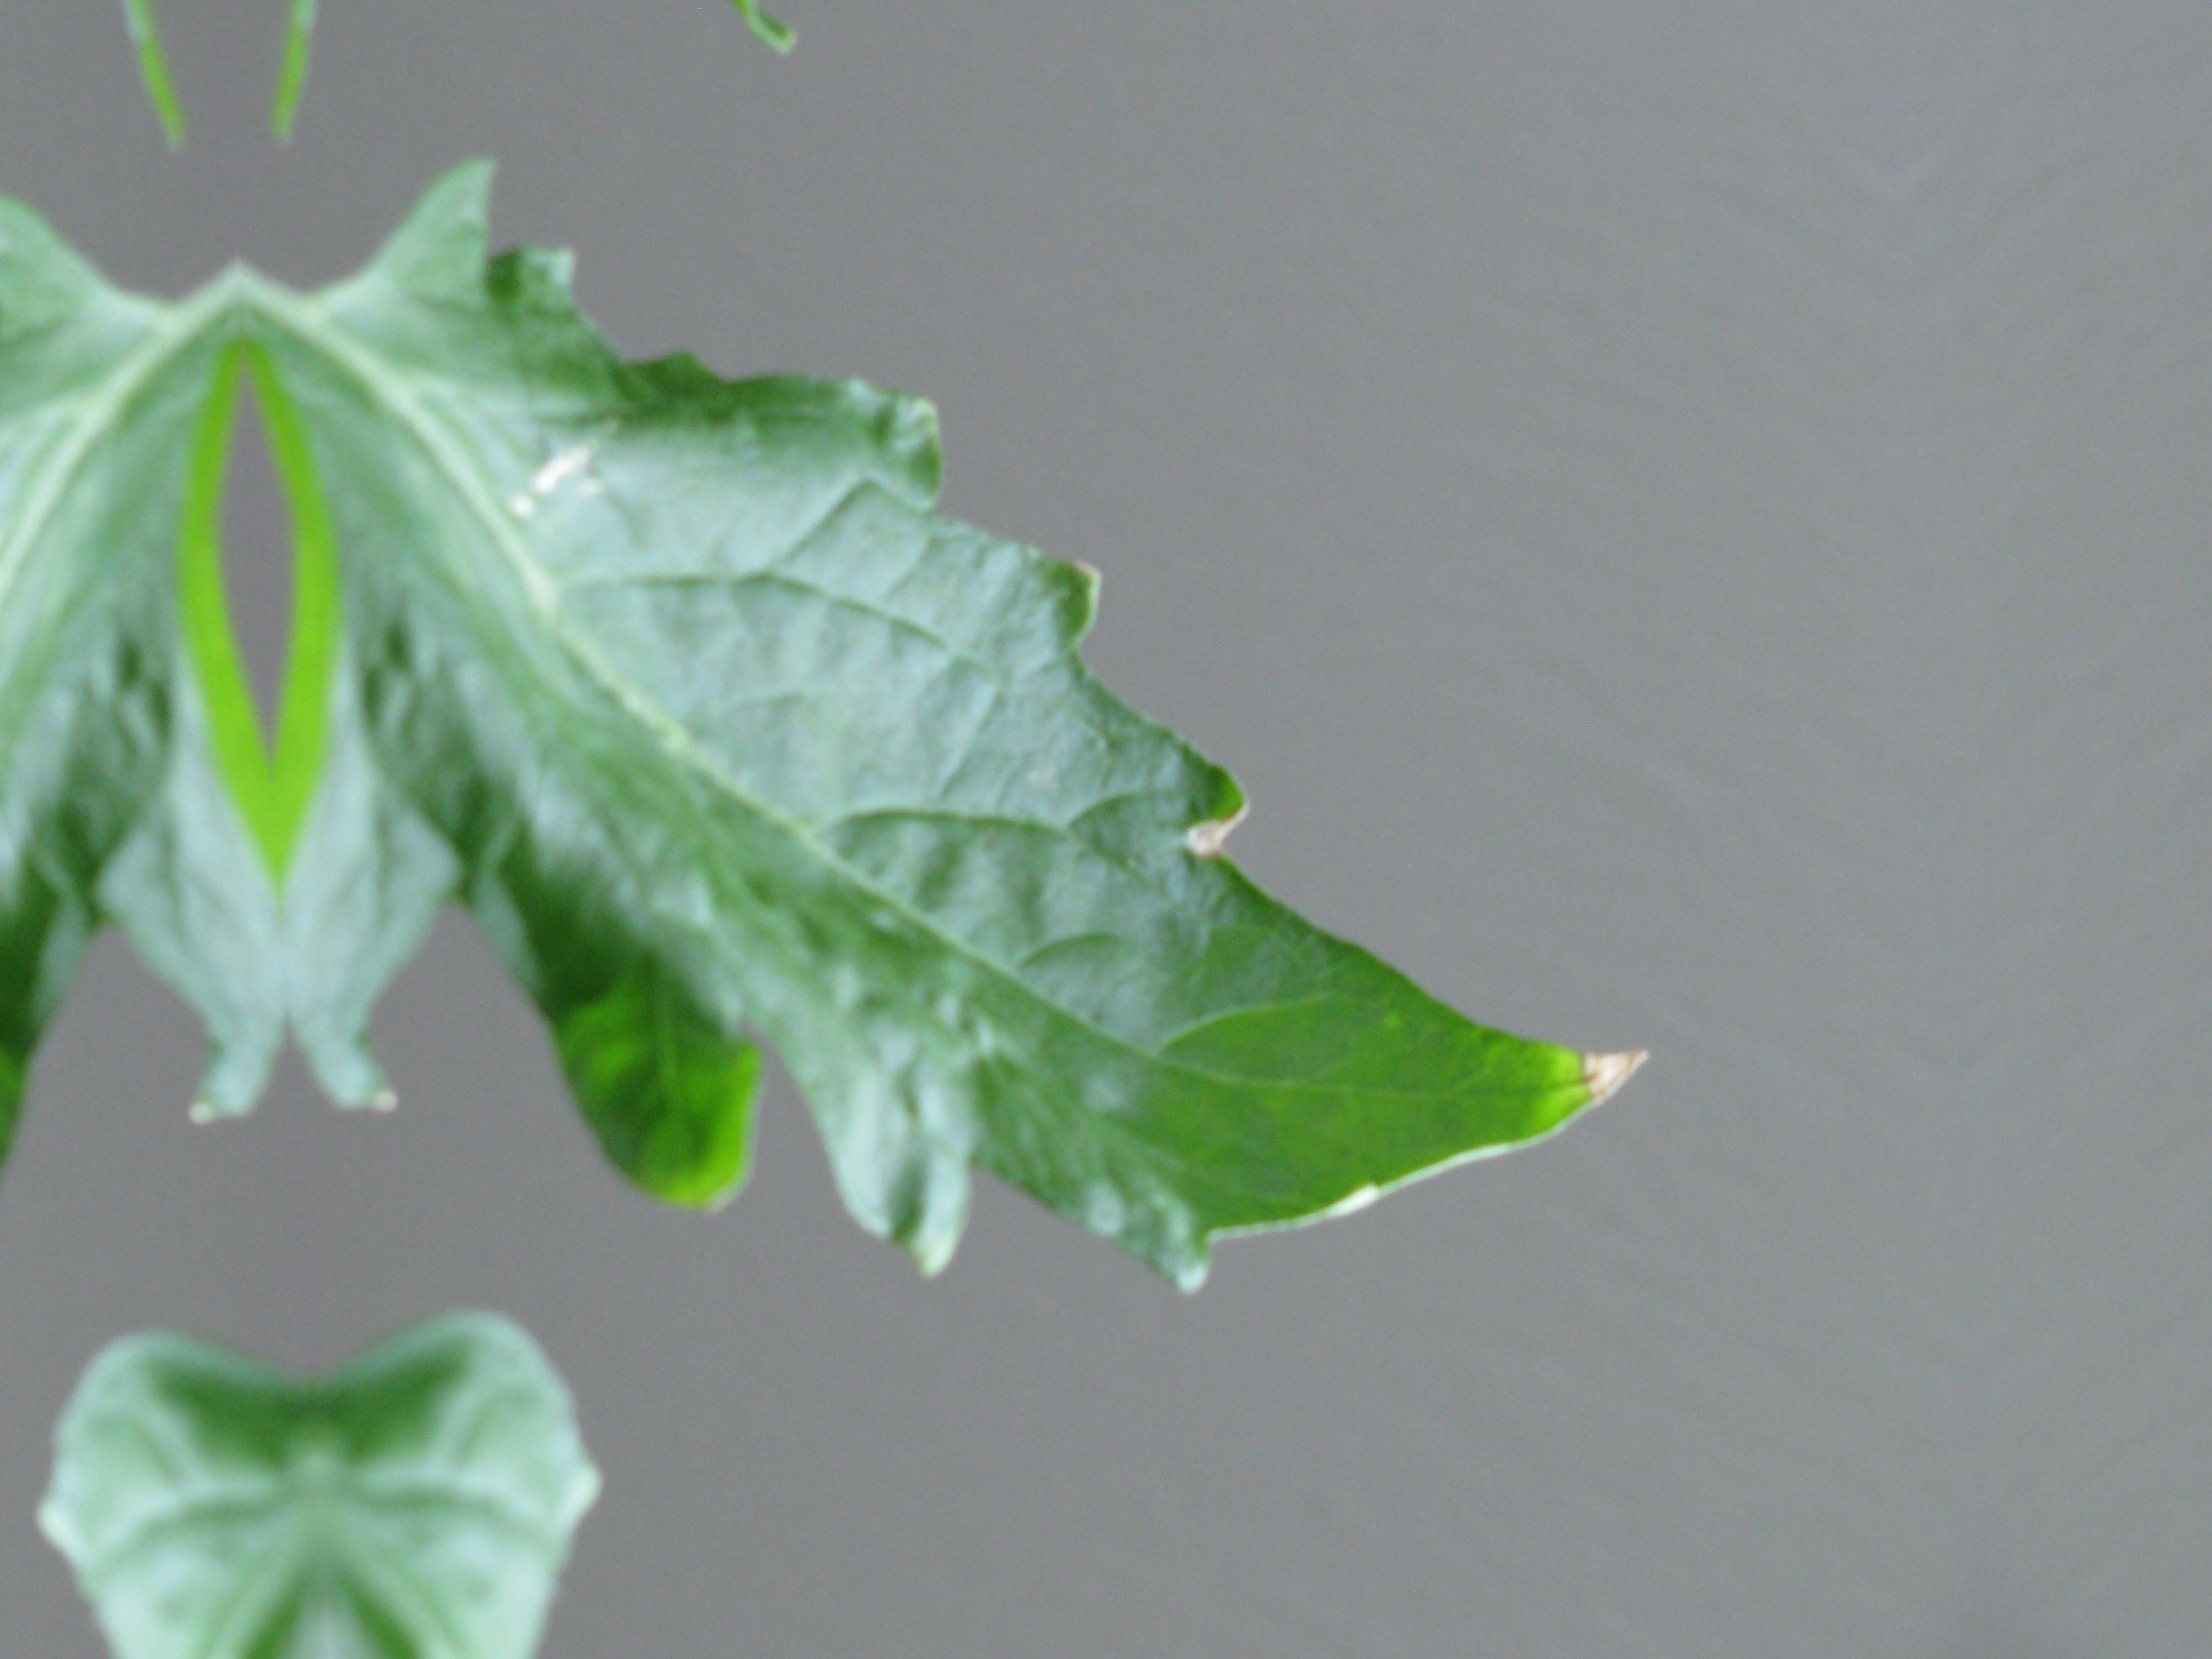Tomato leaf: (265, 68, 1691, 1344)
